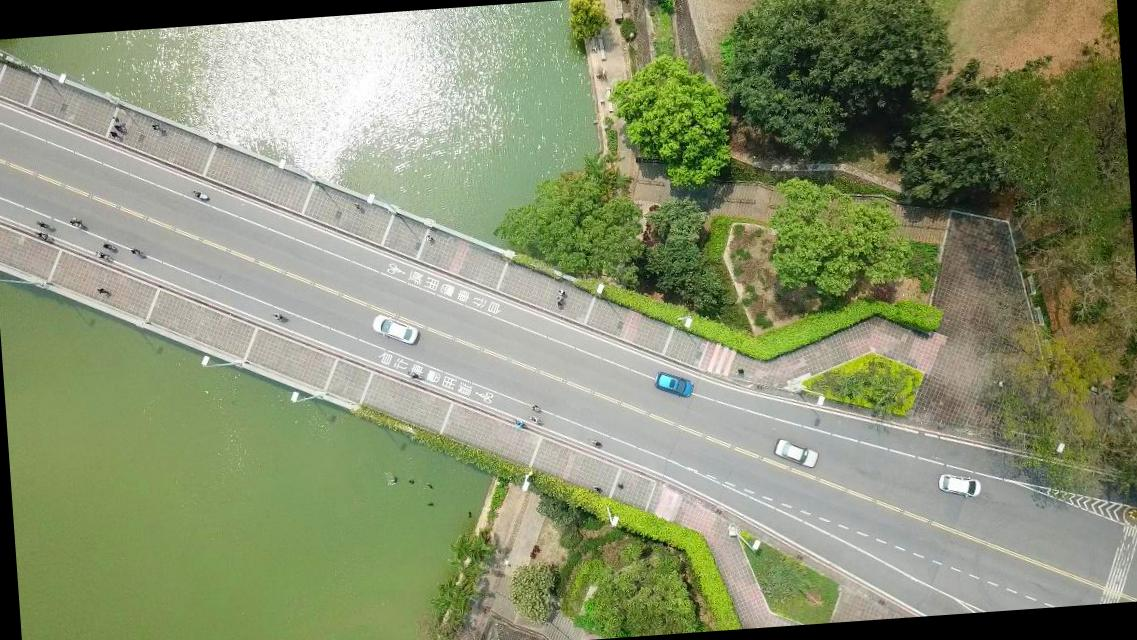vehicle: (370, 310, 421, 346), (772, 435, 819, 470), (652, 368, 694, 401), (936, 471, 980, 502)
